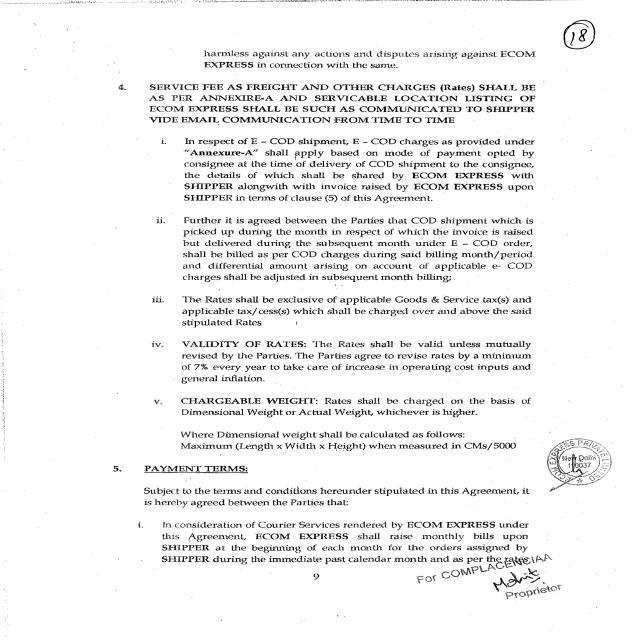page-number: (538, 2, 640, 98)
